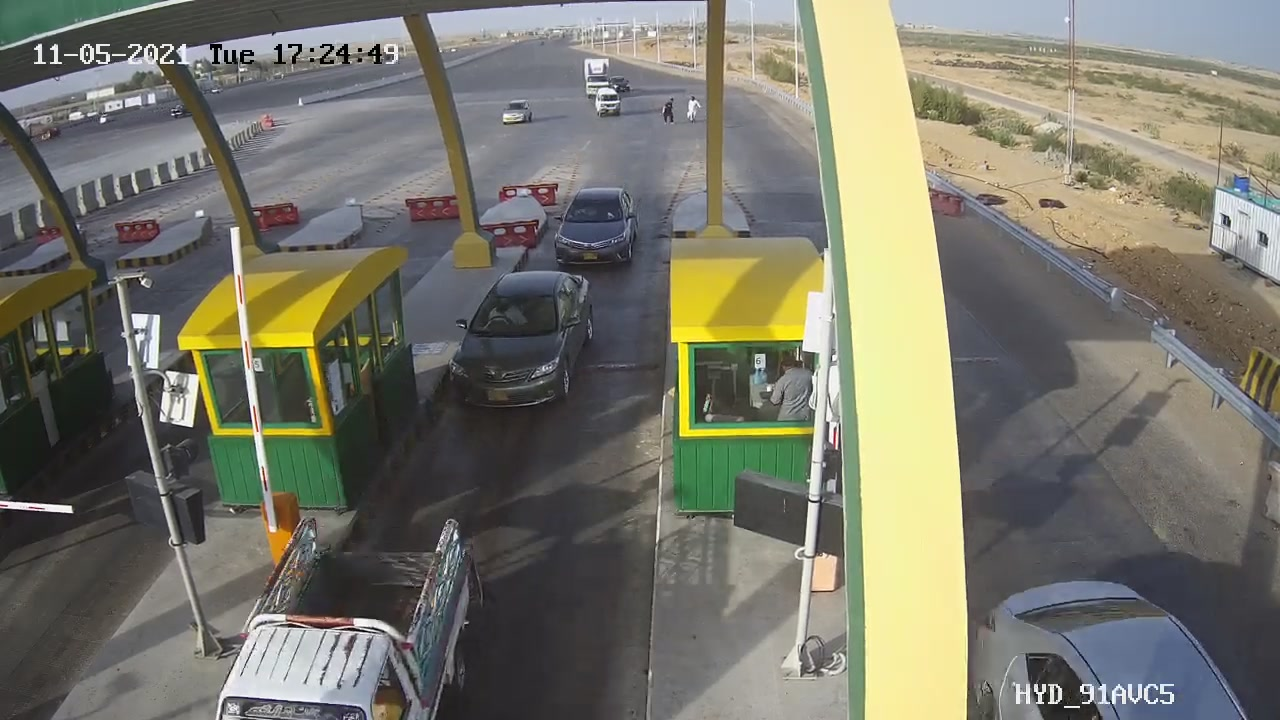F1: (417, 257, 614, 426), (535, 175, 660, 278)
